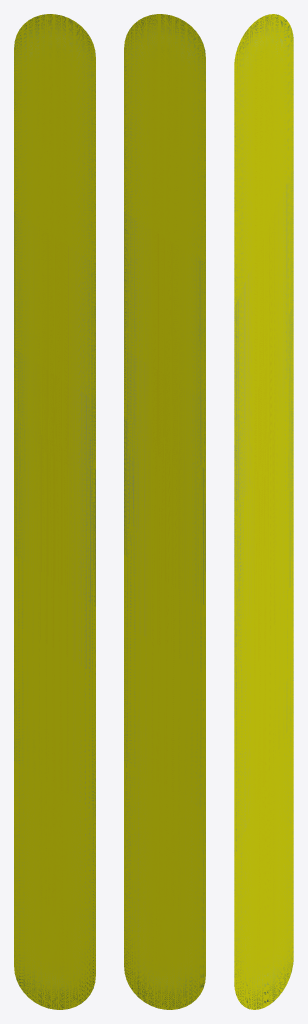
Rendered from original-37.obj.
The picture shows the model from 3 angles, left to right: view 1: azimuth 30°, elevation 25°; view 2: azimuth 210°, elevation 25°; view 3: azimuth 270°, elevation 25°; orthographic projection.
Parts seen in each view (by area): view 1: #ID260; view 2: #ID260; view 3: #ID260.
Boxes of the visible parts, x1,y1,x2,y2 form: #ID260: [14, 14, 95, 1009]; #ID260: [124, 14, 205, 1009]; #ID260: [234, 14, 293, 1009].
Bounding box in the file's own units: 0.00745 × 0.1368 × 0.00745.
Materials: 2 (1 with a texture image).
